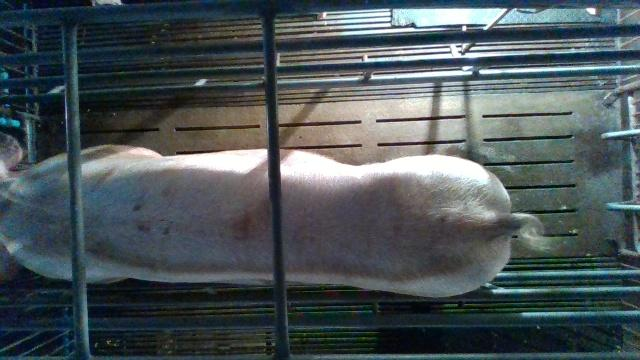sow-stand-feed: (0, 132, 547, 298)
